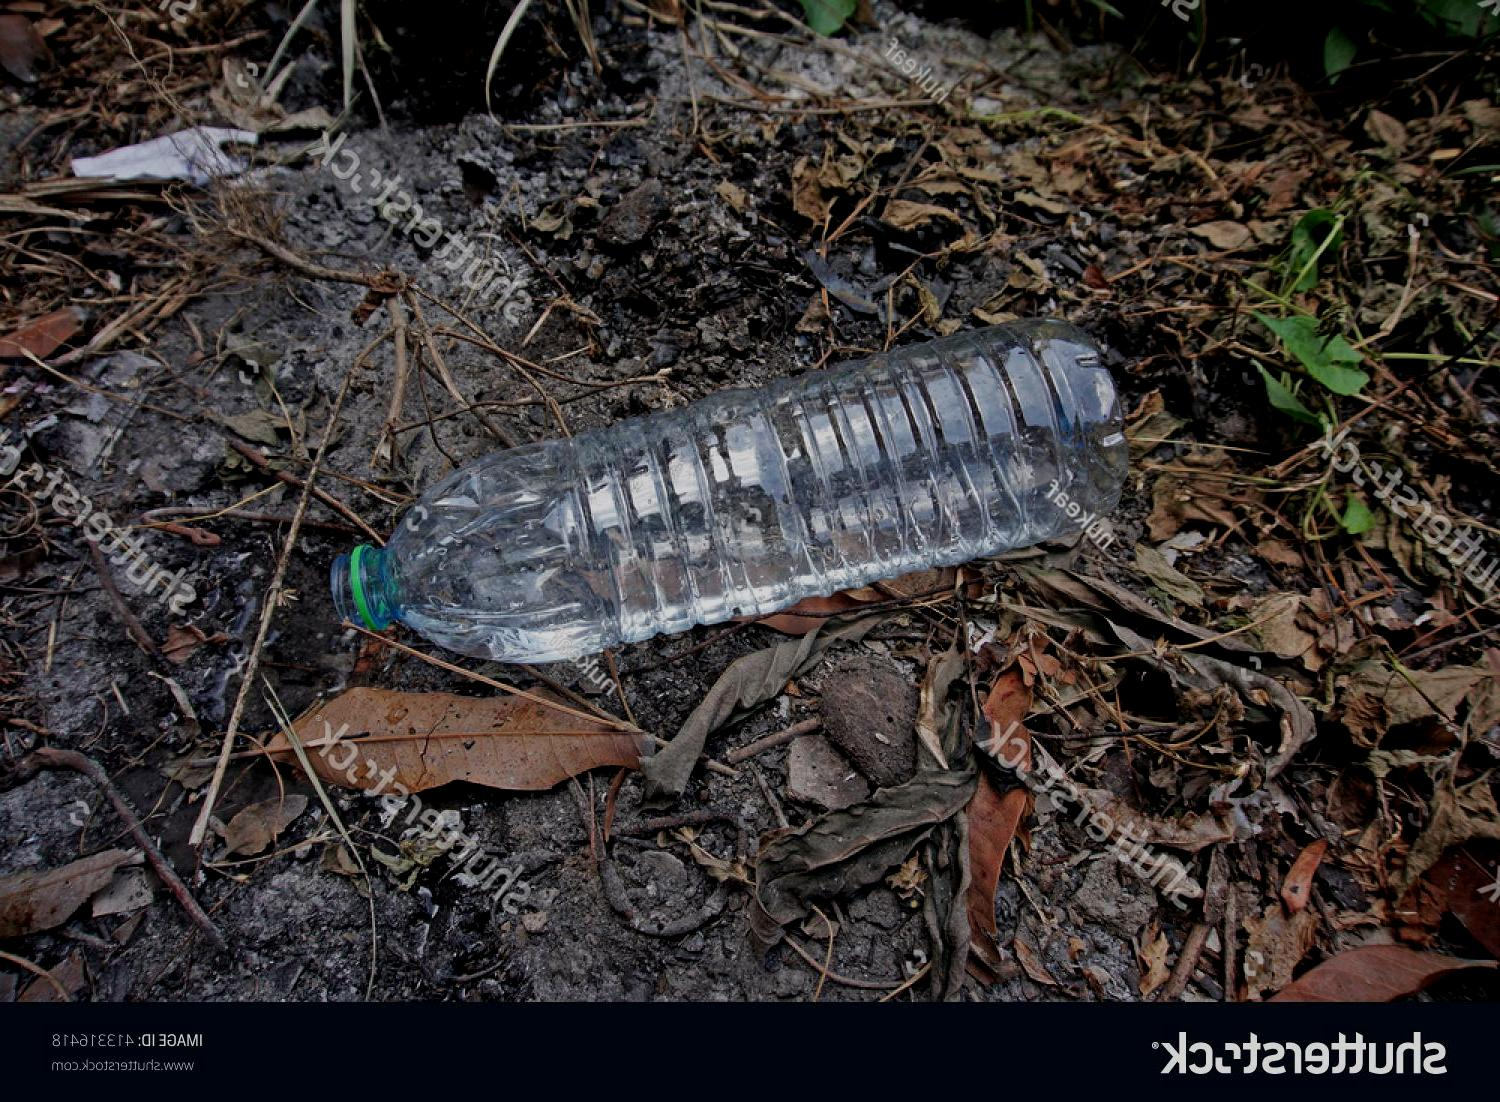bottle: (278, 311, 1146, 741)
